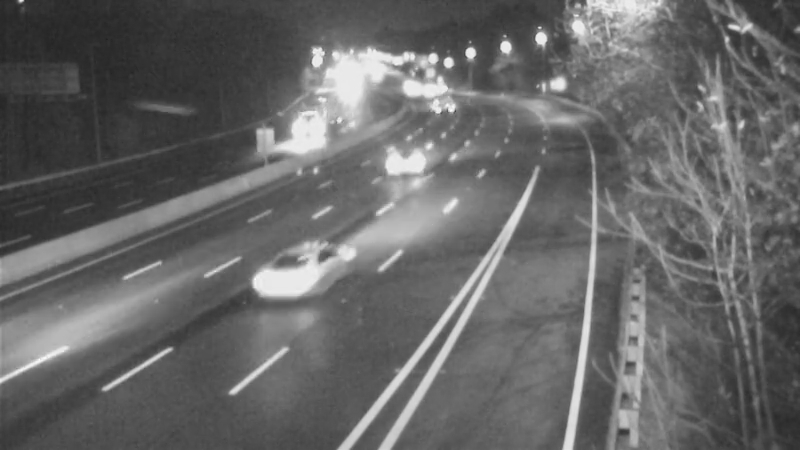vehicle: (372, 112, 452, 192), (249, 238, 329, 318), (294, 110, 344, 160)
